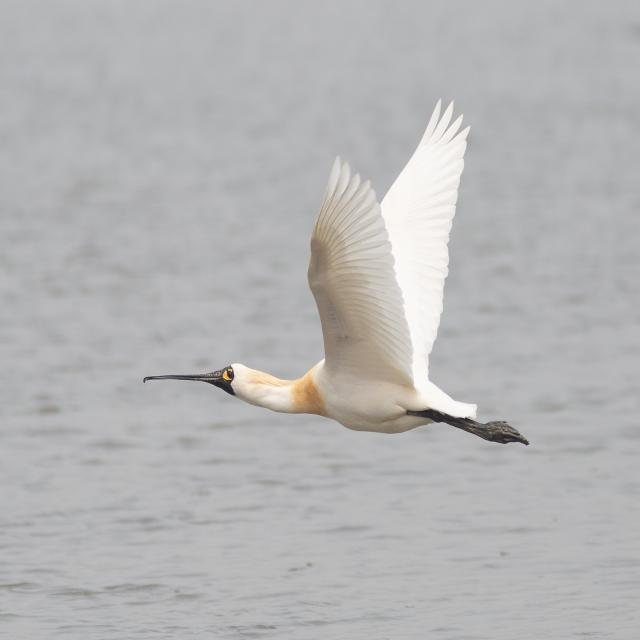Black-faced spoonbill: (145, 102, 528, 444)
